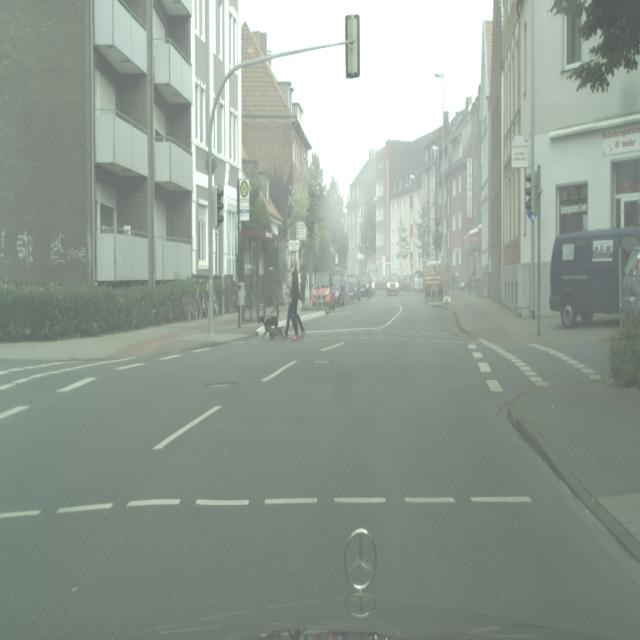person: (283, 257, 303, 341)
train: (548, 228, 639, 328)
truck: (621, 246, 640, 322), (311, 274, 332, 307), (425, 264, 444, 297), (332, 275, 346, 308), (345, 274, 361, 302), (358, 272, 373, 298), (386, 276, 400, 296), (413, 269, 424, 291), (402, 275, 412, 290)
